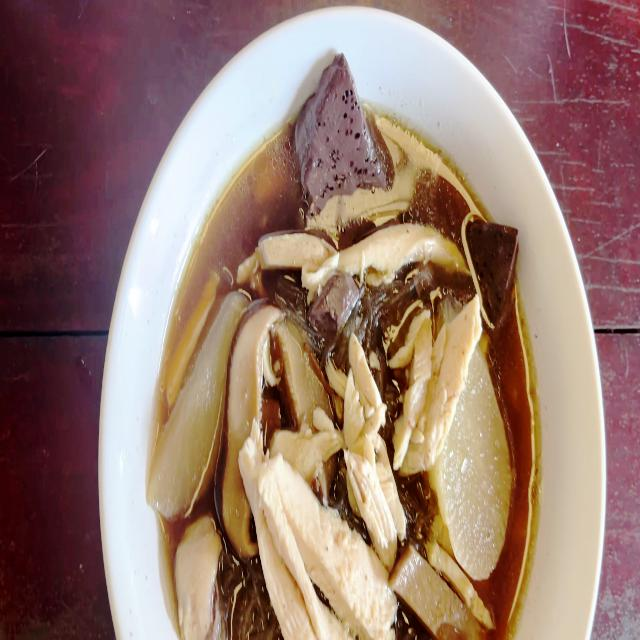boiled_chicken_blood_jelly: (292, 60, 387, 198), (468, 202, 522, 328), (316, 274, 353, 322)
chicken_shredded: (248, 447, 397, 631), (393, 287, 482, 464), (339, 345, 409, 559), (174, 526, 232, 636), (344, 216, 460, 270), (256, 236, 326, 286)
daikon_radish: (148, 291, 238, 508), (442, 378, 511, 566)
noodle: (163, 107, 536, 640)
